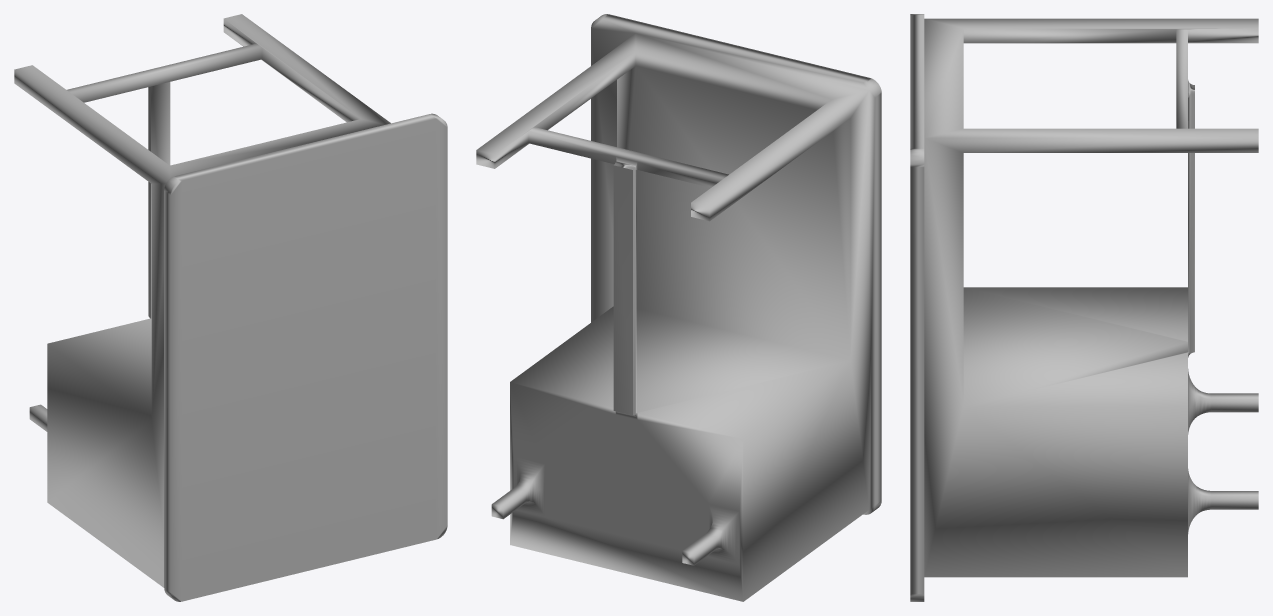
The model's file is desk_yamamoto.dae.
The picture shows the model from 3 angles, left to right: view 1: azimuth 30°, elevation 25°; view 2: azimuth 150°, elevation 25°; view 3: azimuth 270°, elevation 25°; orthographic projection. The views are drawn at different scales.
Parts seen in each view (by area): view 1: transform1; view 2: transform1; view 3: transform1.
Part boxes in pixels (<box>): transform1: <box>14,14,447,601</box>; transform1: <box>476,14,881,601</box>; transform1: <box>910,14,1258,601</box>.
Size of the model in its own units: 0.73 by 1.06 by 0.74.
Materials: 1 (1 with a texture image).
